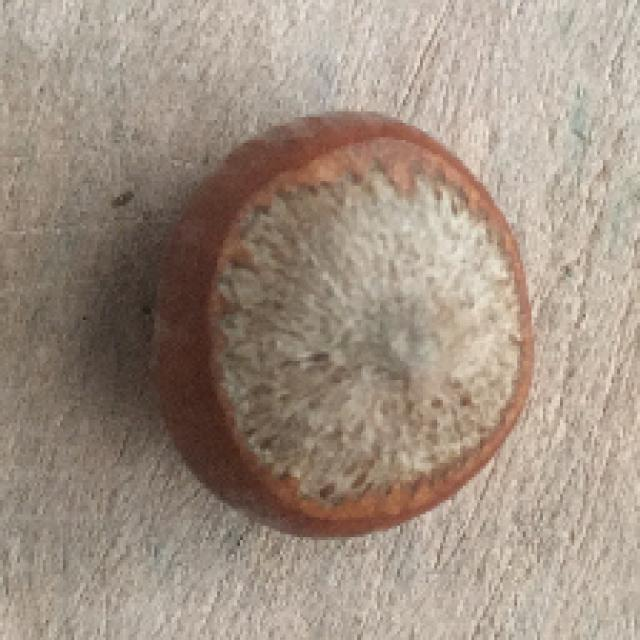qualityHazelnut: (147, 95, 539, 559)
